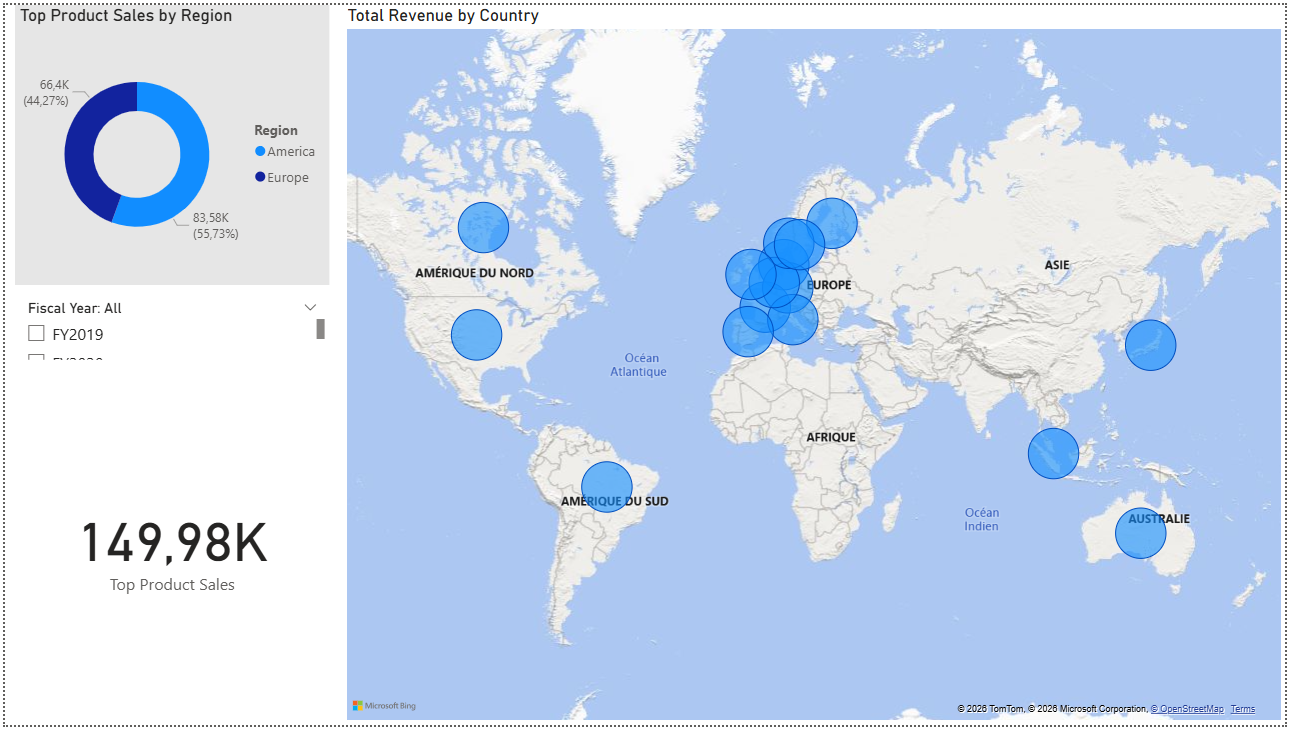

The page's visual inventory and layout, read from the dashboard file:
{"tool":"powerbi","page":{"name":"Page 2","canvas":[1280,720],"ordinal":1},"visuals":[{"type":"donutChart","fields":{"Y":["Categories.Top Product Sales"],"Category":["Customers.Region"]},"box":[9.6,0,314.2,279.9],"z":0},{"type":"slicer","fields":{"Values":["DateTable.Fiscal Year"]},"box":[9.6,289.5,314.2,70],"z":1000},{"type":"map","fields":{"Category":["Phone.Country"],"Size":["Order Details.Total Revenue"]},"box":[337.6,0,942.7,720.4],"z":2000},{"type":"card","fields":{"Values":["Categories.Top Product Sales"]},"box":[9.7,359.5,314.9,360.7],"z":3000}]}

Visuals, with their boxes in screenshot pixels (x1, y1, x2, y2), scaled from the page's 1280x720 canvas onto the 1296x731 screenshot:
donutChart - Categories.Top Product Sales x Customers.Region: pyautogui.locateOnScreen(10, 0, 328, 284)
slicer - DateTable.Fiscal Year: pyautogui.locateOnScreen(10, 294, 328, 365)
map - Phone.Country x Order Details.Total Revenue: pyautogui.locateOnScreen(342, 0, 1295, 730)
card - Categories.Top Product Sales: pyautogui.locateOnScreen(10, 365, 329, 730)
